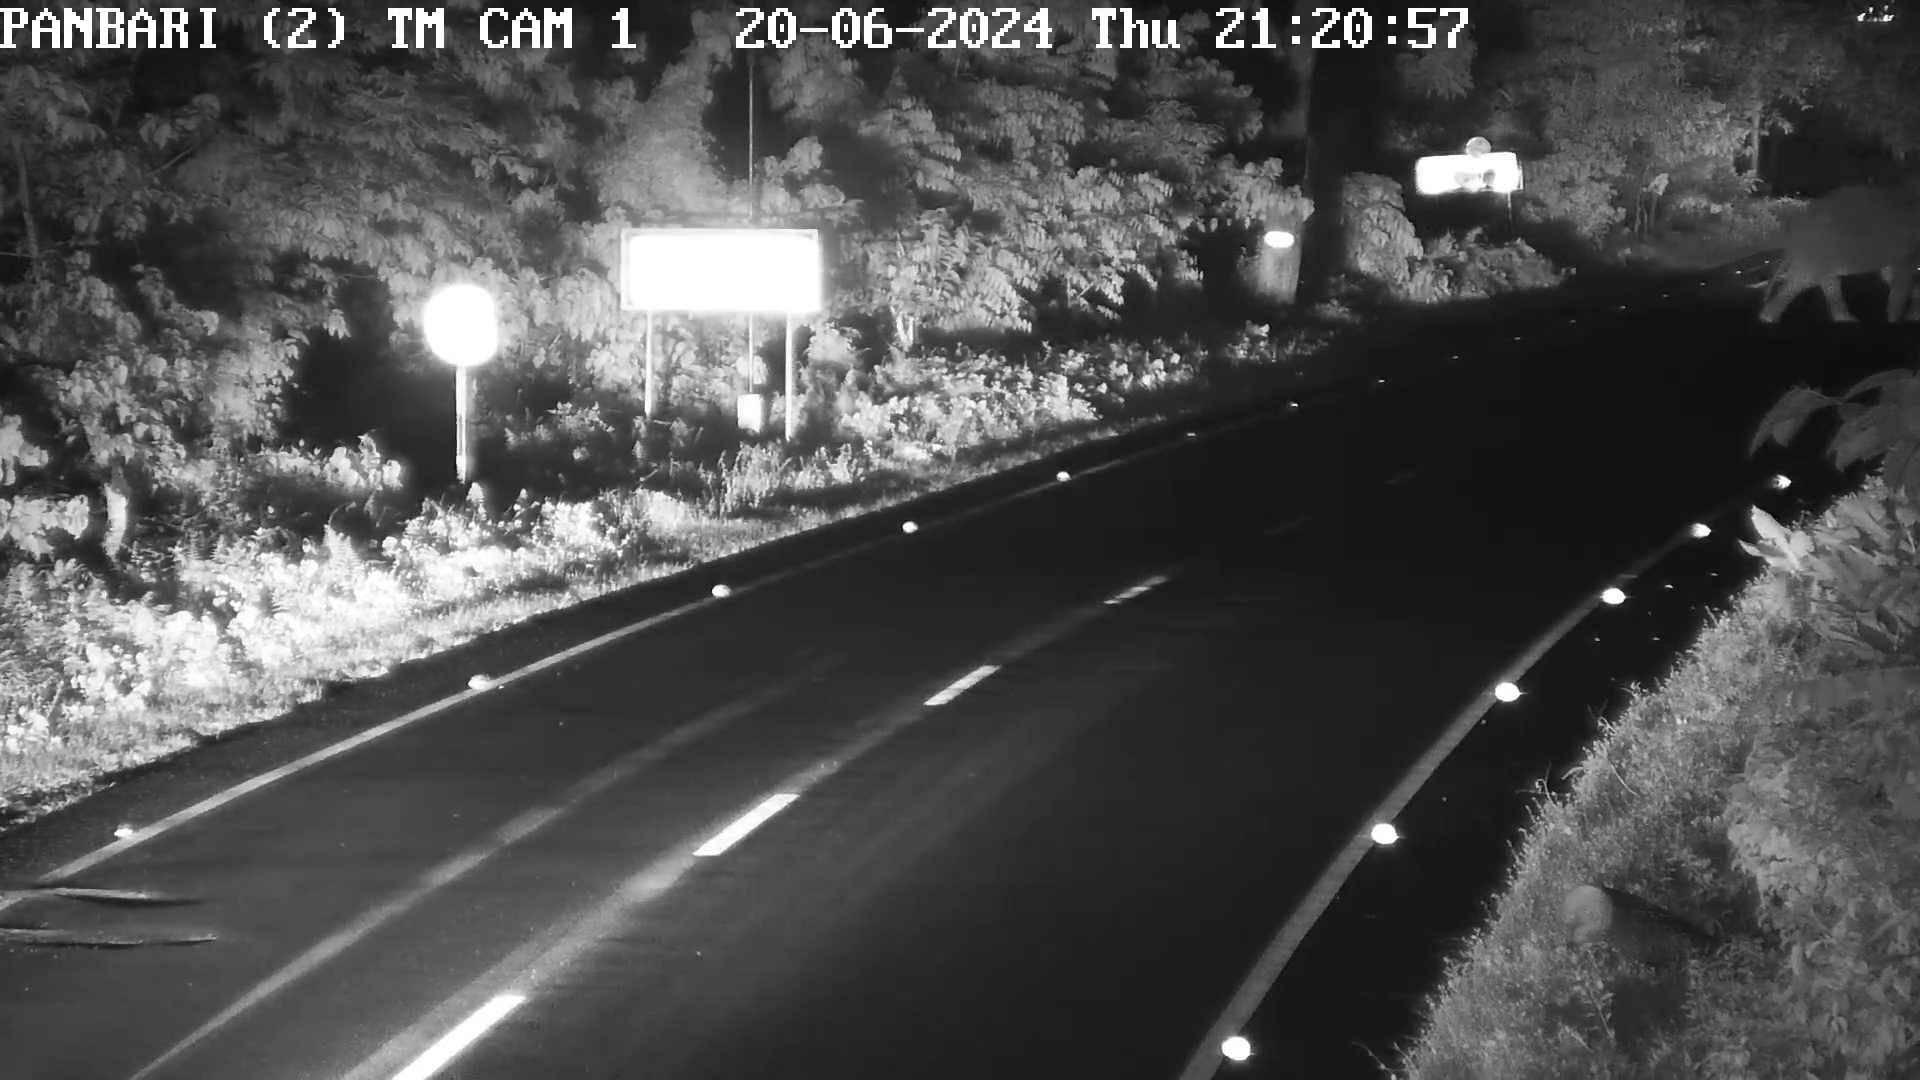elephants: (1762, 191, 1920, 338)
